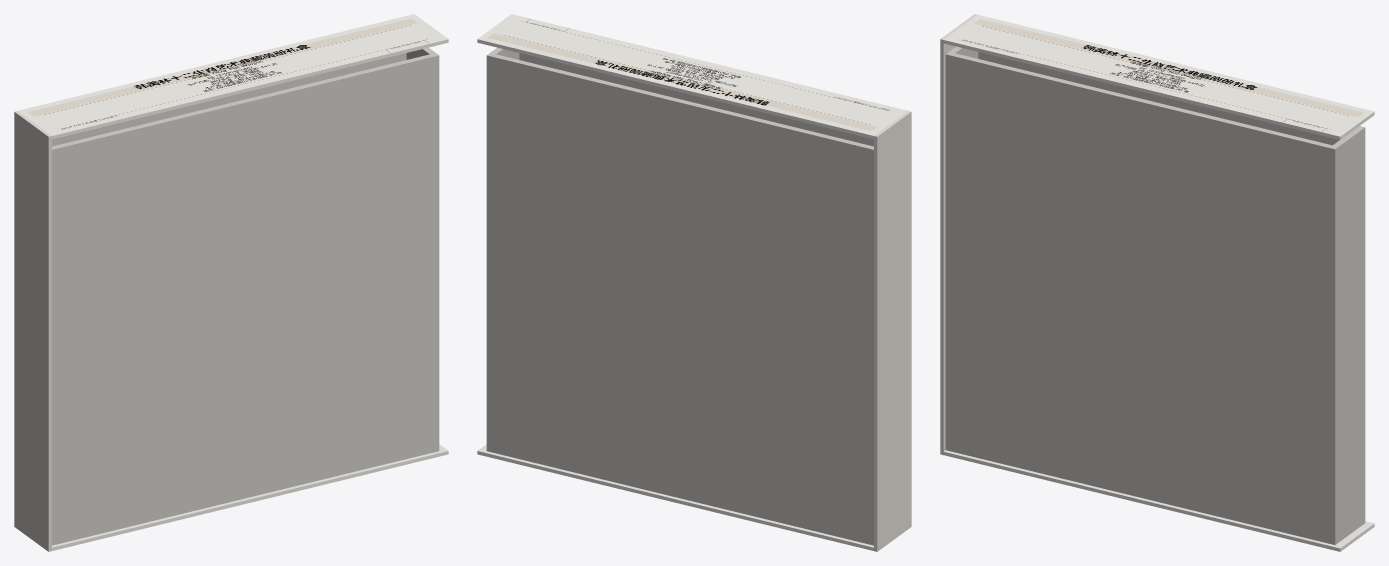
3 views of the same model, side by side, from view 1: azimuth 30°, elevation 25°; view 2: azimuth 150°, elevation 25°; view 3: azimuth 330°, elevation 25° (orthographic).
Visible parts, largest first — view 1: inner_tray, case_spine, artwork_face, case_back, case_front; view 2: inner_tray, case_spine, artwork_face, case_back, case_front; view 3: inner_tray, artwork_face, case_back, case_spine, case_front.
Part boxes in pixels (x1=…): inner_tray: x1=52, y1=47, x2=439, y2=545; case_spine: x1=14, y1=111, x2=51, y2=551; artwork_face: x1=18, y1=14, x2=448, y2=135; case_back: x1=52, y1=444, x2=448, y2=550; case_front: x1=19, y1=39, x2=448, y2=139; inner_tray: x1=486, y1=47, x2=873, y2=545; case_spine: x1=874, y1=111, x2=911, y2=551; artwork_face: x1=477, y1=14, x2=907, y2=135; case_back: x1=477, y1=444, x2=873, y2=550; case_front: x1=477, y1=39, x2=906, y2=139; inner_tray: x1=945, y1=46, x2=1365, y2=544; artwork_face: x1=944, y1=14, x2=1374, y2=136; case_back: x1=943, y1=450, x2=1374, y2=551; case_spine: x1=940, y1=14, x2=977, y2=454; case_front: x1=943, y1=40, x2=1374, y2=139.
Size of the model in its own units: 302 by 300 by 45.
4 materials, 1 textured.
